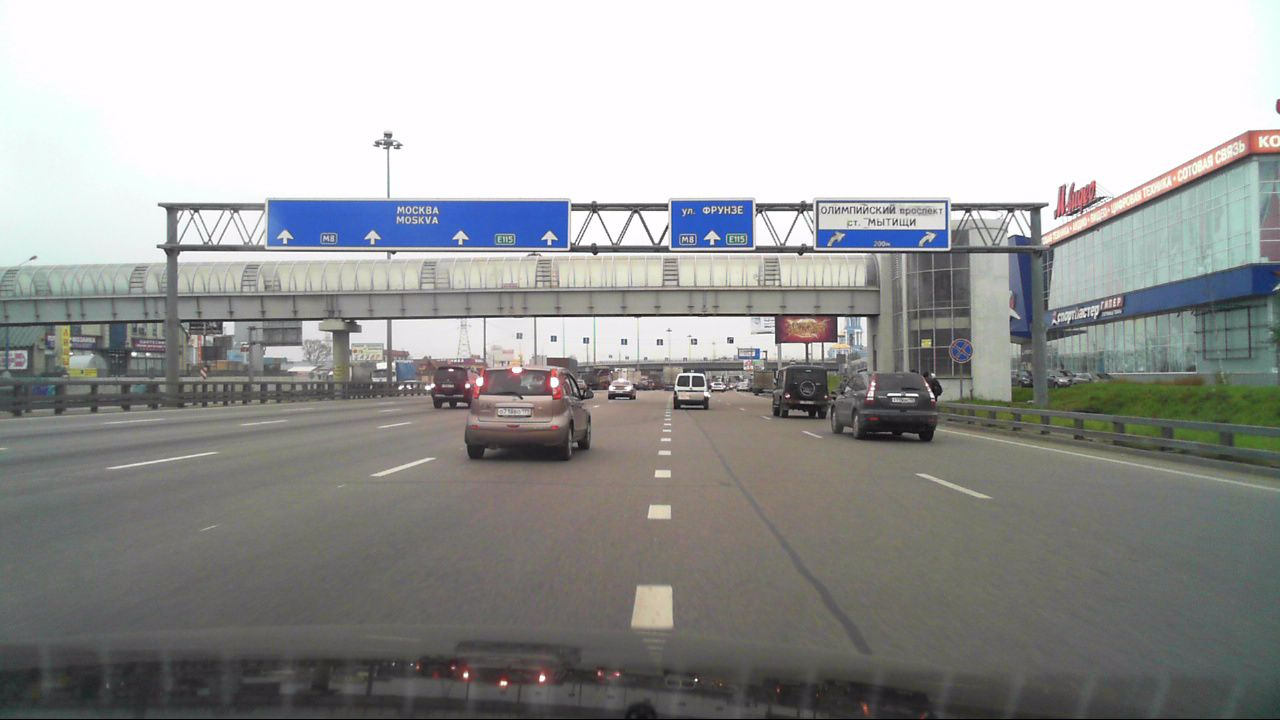No Parking: (948, 338, 973, 363)
